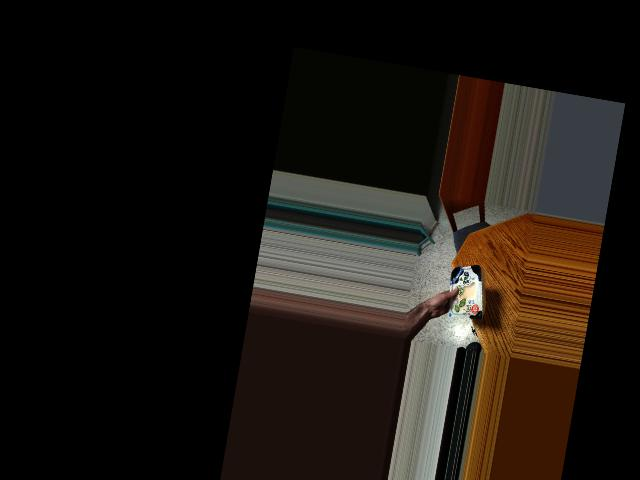cheese: (440, 266, 489, 312)
